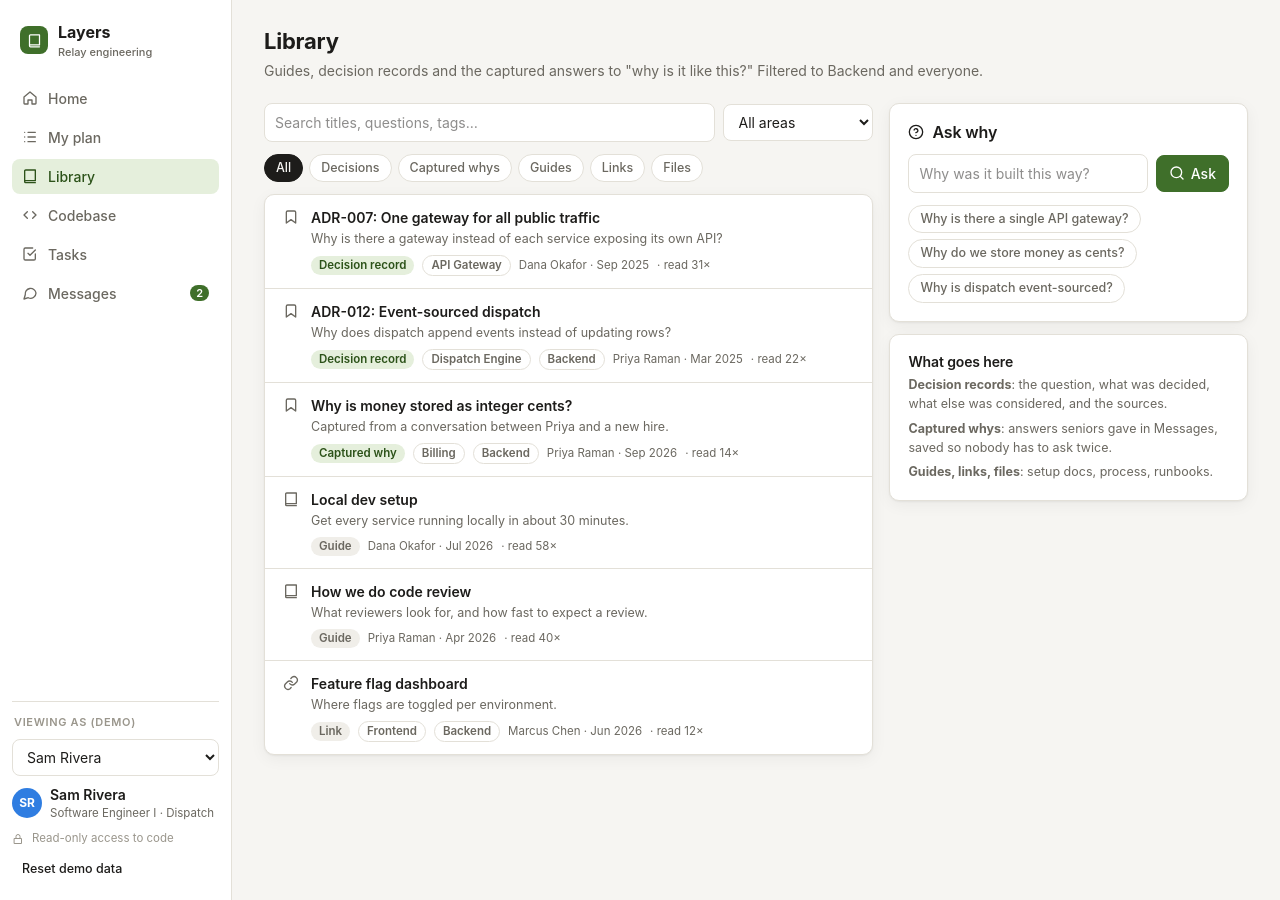
Test case: Library › shows an empty state when nothing matches
The image size is (1280, 900).
Type "zzzz" into the field with placeholder "Search titles, questions, tags…". click: (490, 122)
box: [264,102,716,142]
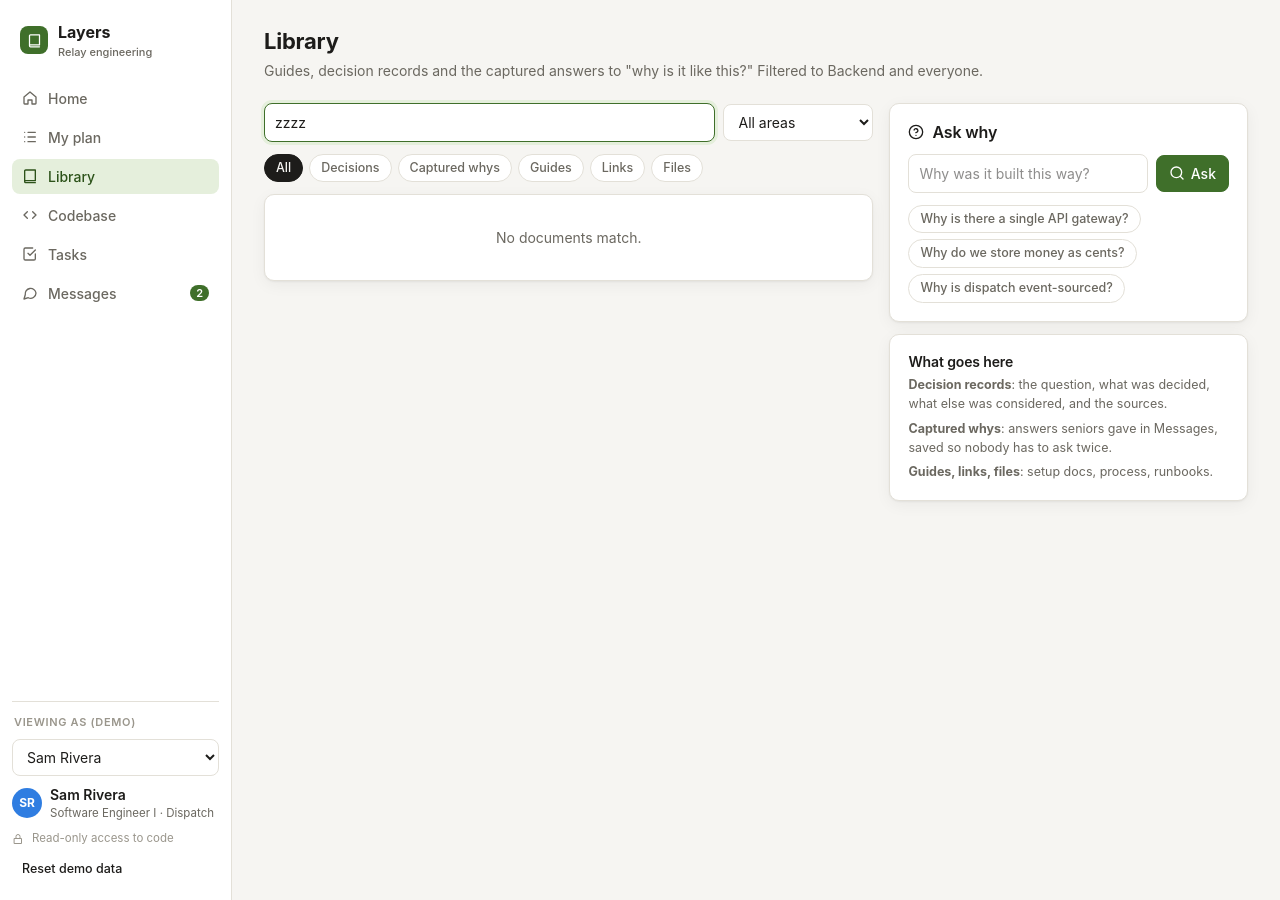
Result: the text "No documents match." is shown at [496,229,642,246]
